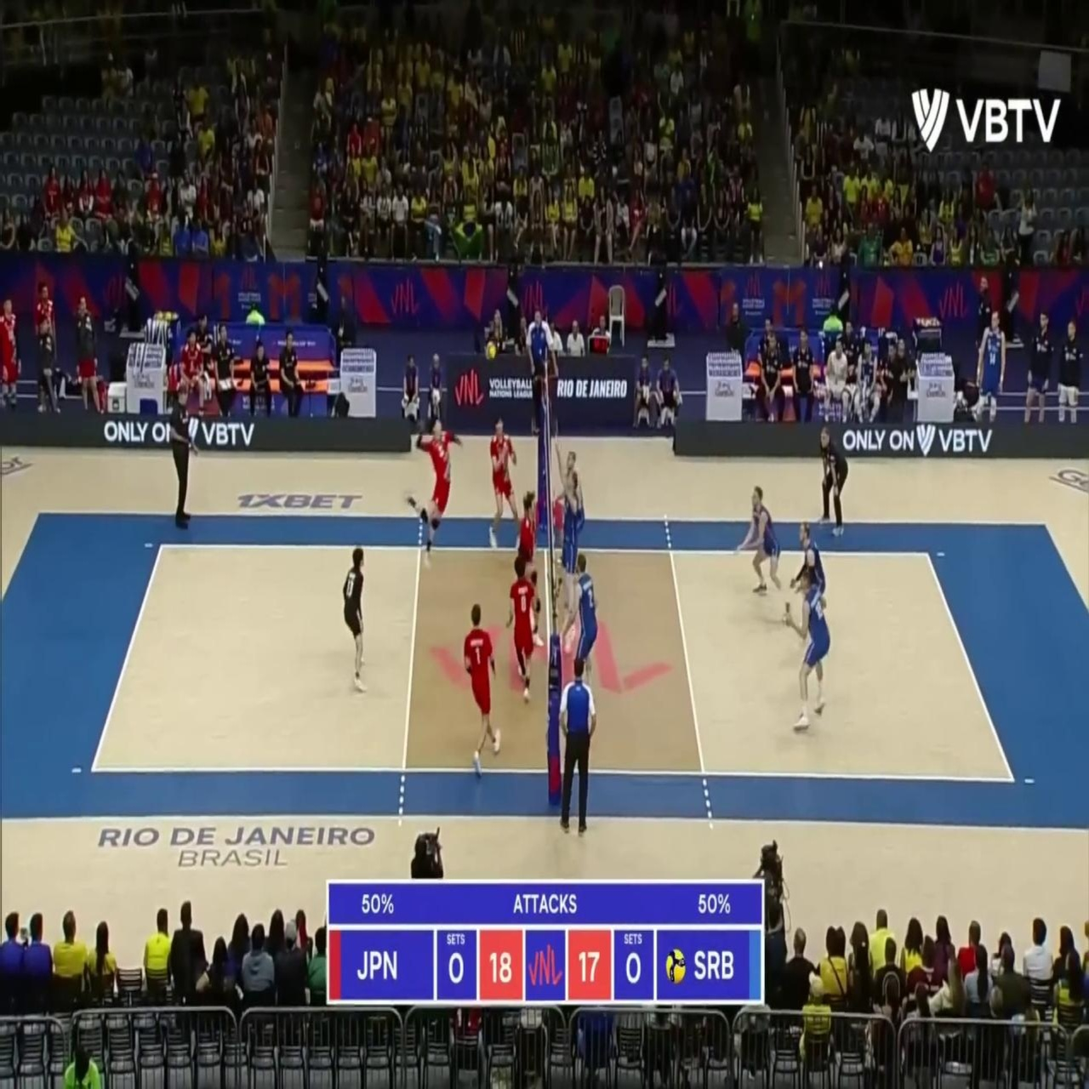ball: (486, 342, 495, 360)
